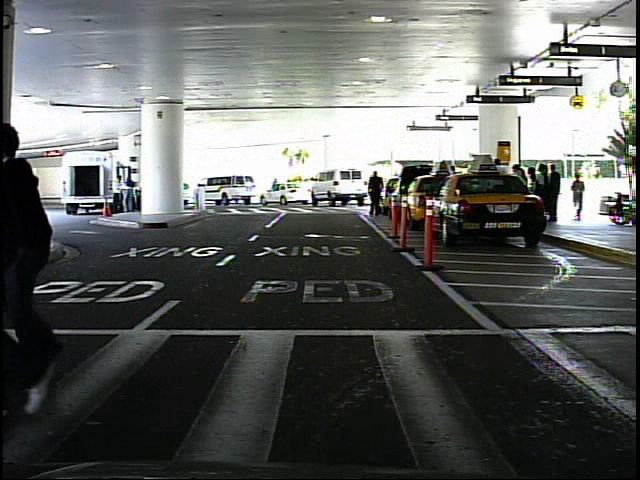person: (364, 169, 387, 218), (571, 172, 590, 220), (109, 174, 125, 215)
